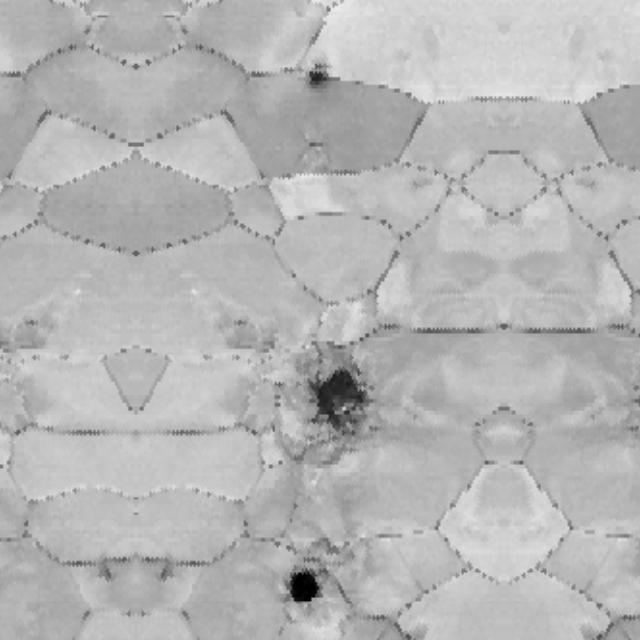good_void: (285, 353, 394, 442), (272, 555, 330, 613), (219, 312, 277, 363), (0, 312, 54, 363), (314, 530, 360, 566), (300, 125, 332, 163), (300, 66, 340, 88), (156, 559, 183, 587), (90, 559, 117, 587)
